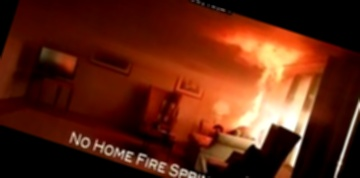fire: (174, 6, 323, 161)
